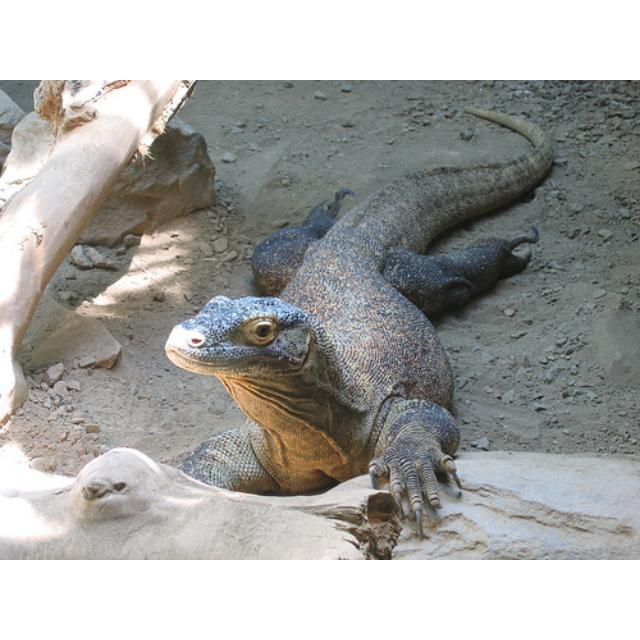KomodoDragon: (163, 103, 554, 539)
